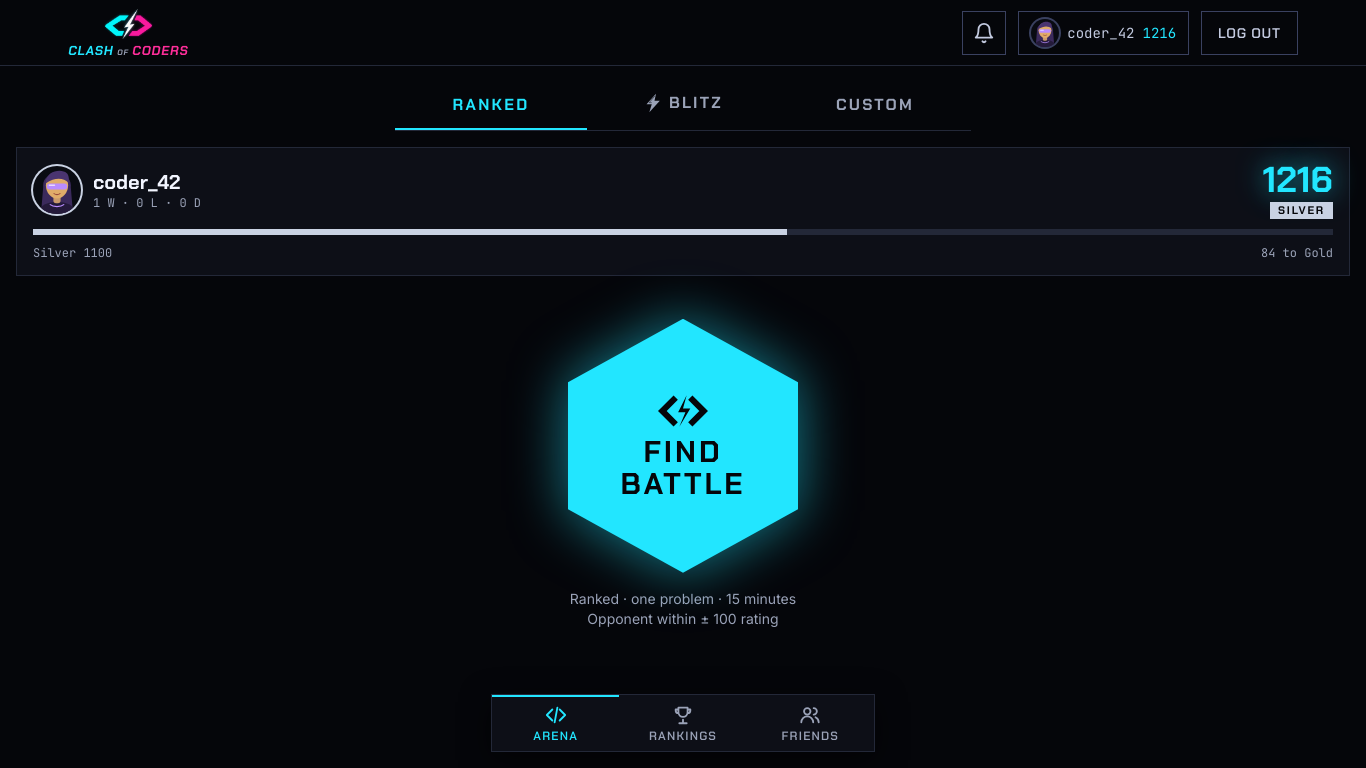
Test: lobby on phones › turns the button into a search timer with Cancel
Click the button with aria-label "Find Battle" at (683, 446), box [568,319,798,573]
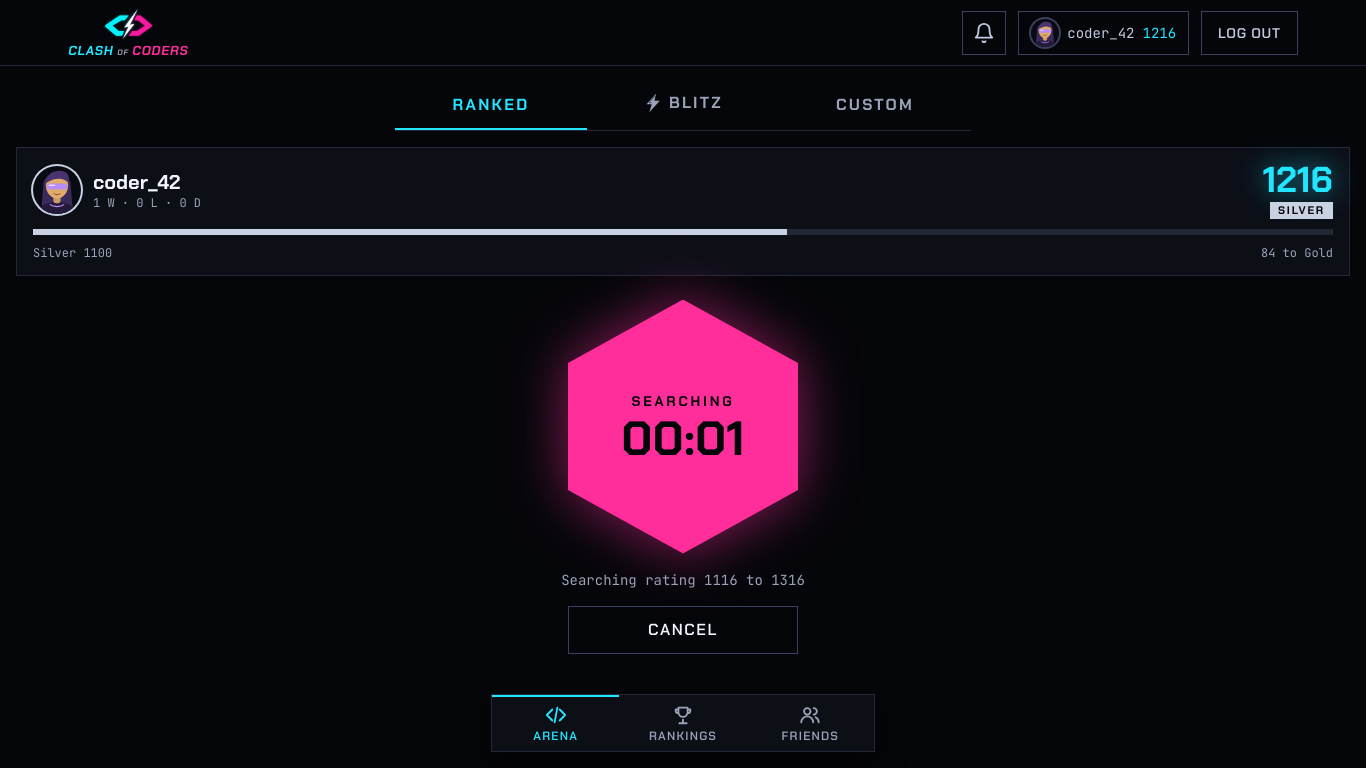
Result: the message "Searching 00:01" is shown at [568,300,798,554]
Result: the text "Searching rating 1116 to 1316" is shown at [561,570,805,590]
Click the button "Cancel" at (683, 630), box [568,606,798,654]
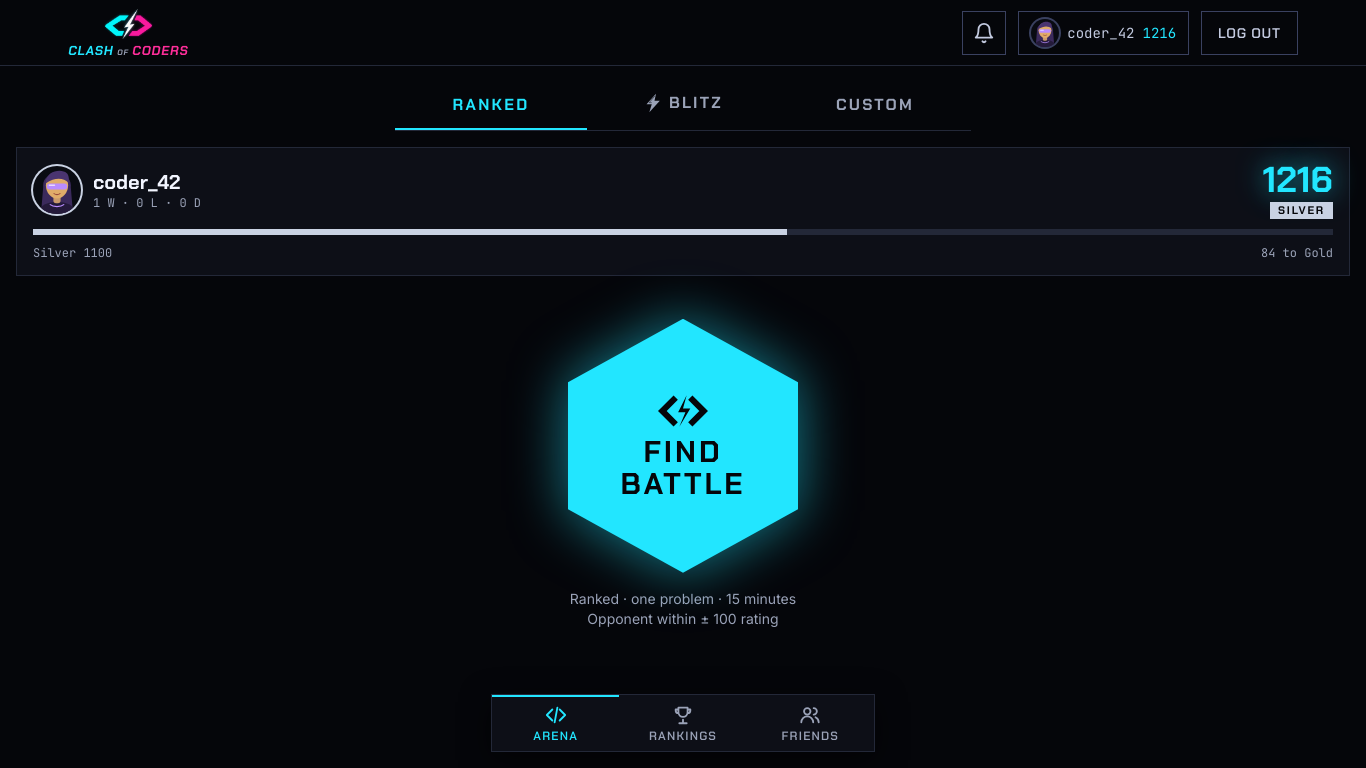
Result: the button with aria-label "Find Battle" is shown at [568,319,798,573]
